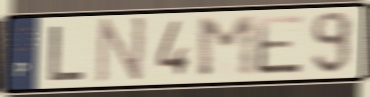4: (154, 17, 193, 80)
9: (309, 9, 356, 77)
E: (254, 12, 306, 77)
L: (46, 23, 88, 83)
M: (194, 13, 259, 81)
N: (93, 15, 149, 86)
